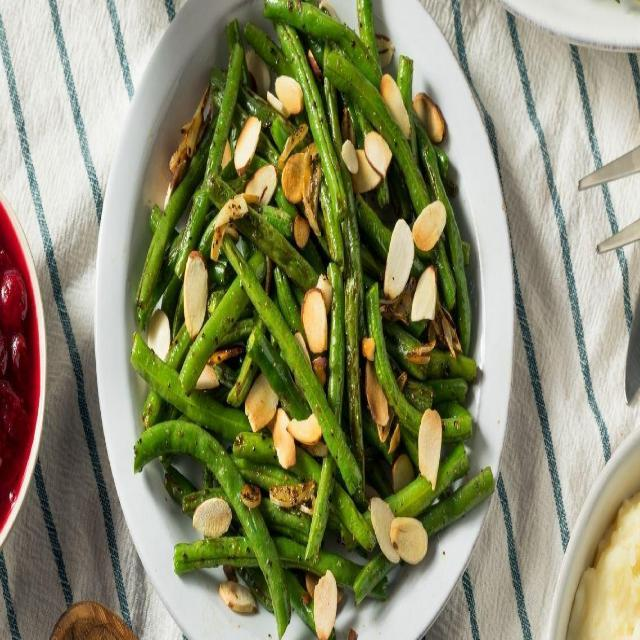Beans: (110, 0, 499, 637)
